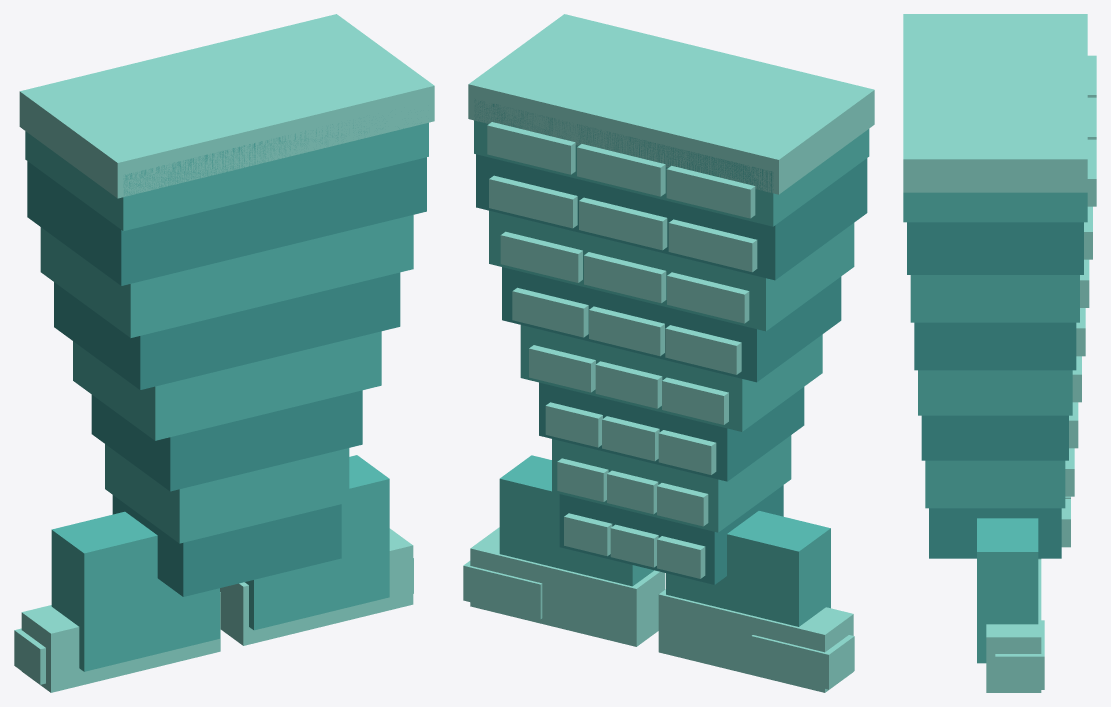
Rendered from barbatana_sereia.glb.
3 renders of one model, left to right at view 1: azimuth 30°, elevation 25°; view 2: azimuth 150°, elevation 25°; view 3: azimuth 270°, elevation 25°, orthographic. The views are drawn at different scales.
Visible parts, largest first — view 1: barbatana_sereia; view 2: barbatana_sereia; view 3: barbatana_sereia.
Boxes of the visible parts, box(x1,y1,x2,y2) form: barbatana_sereia: box(14, 14, 434, 692); barbatana_sereia: box(463, 14, 874, 692); barbatana_sereia: box(903, 14, 1096, 692).
Bounding box in the file's own units: 0.66 × 0.94 × 0.315.
